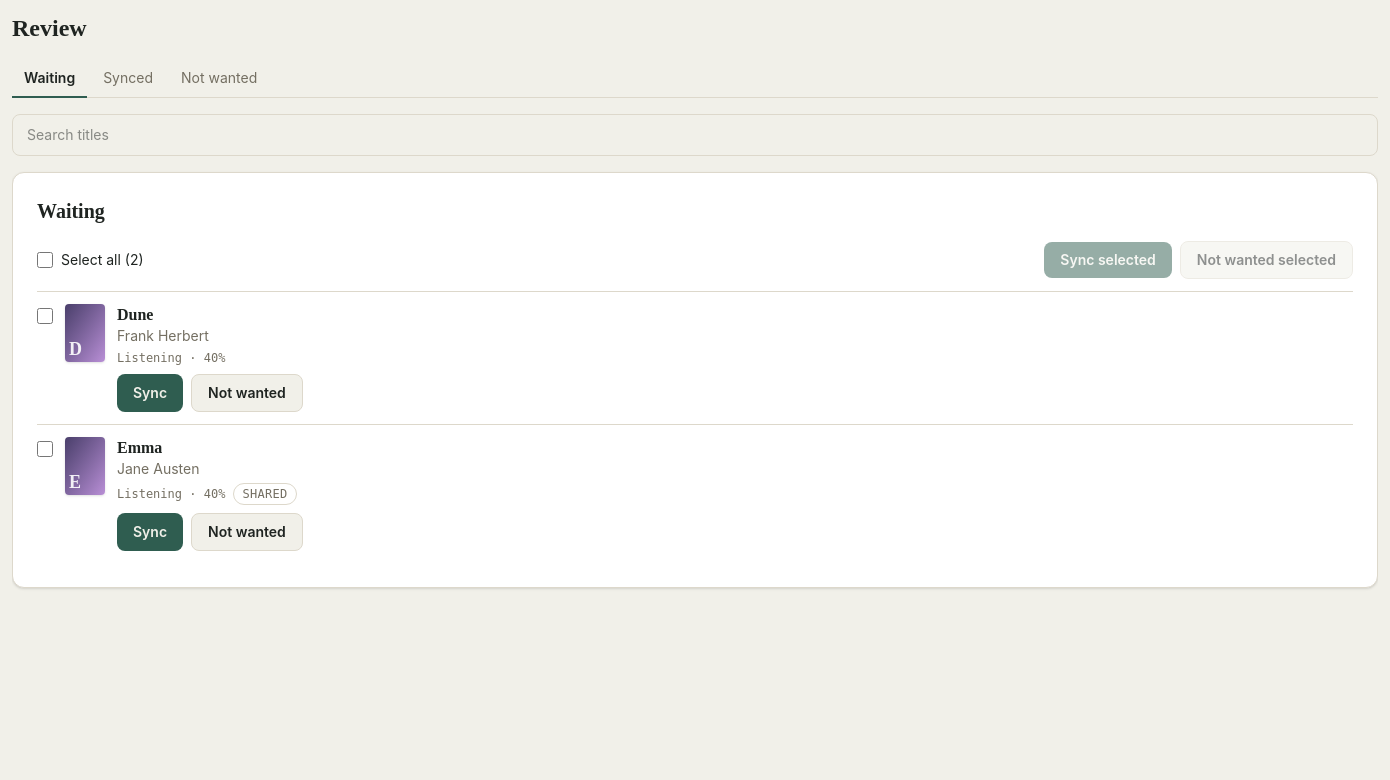
Test case: ReviewPage › searches titles
The width and height of the screenshot is (1390, 780).
Expected: the text "Dune" is shown, 117,306 -> 154,323
Type "emma" into the search field labelled "Search titles" at (695, 135), box 12,114 -> 1378,156
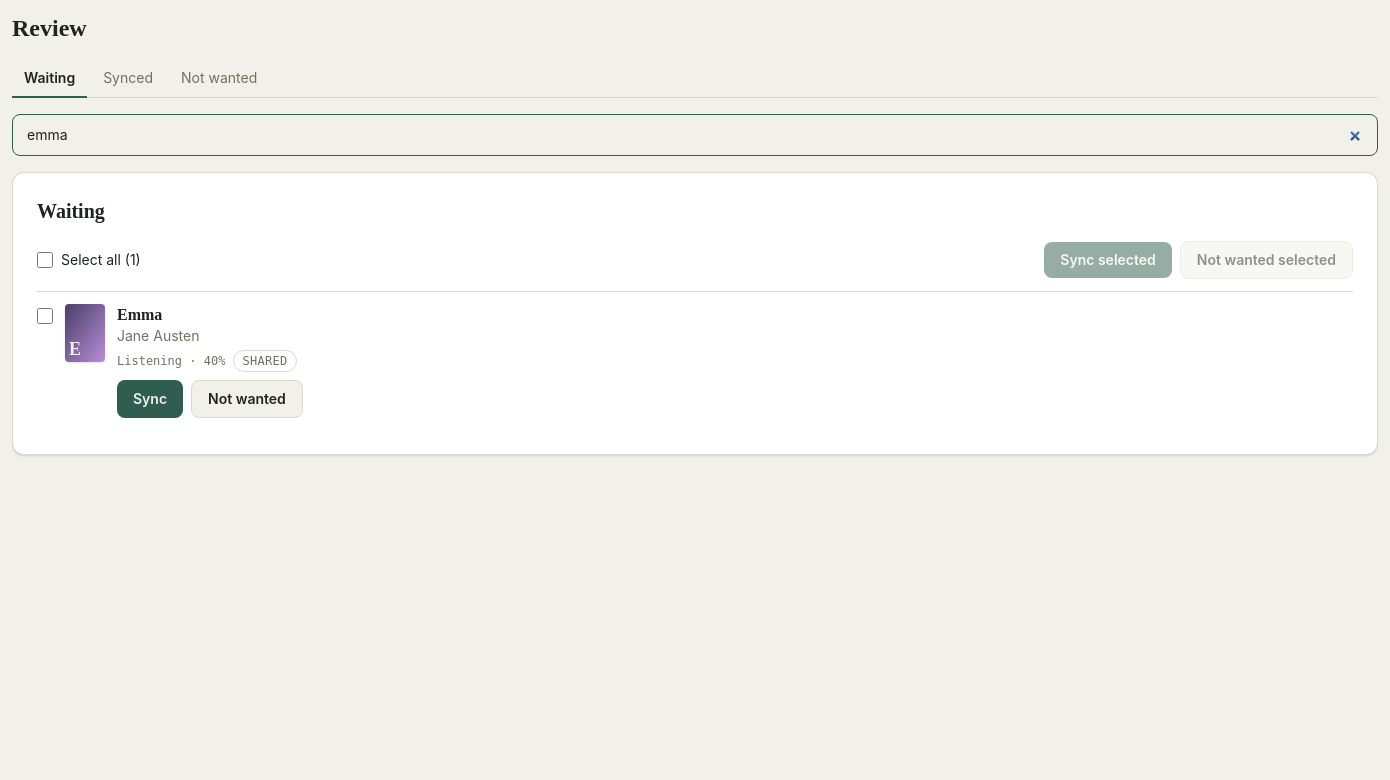
Expected: the text "Emma" is shown, 117,306 -> 162,323
Result: the text "Dune" is gone
